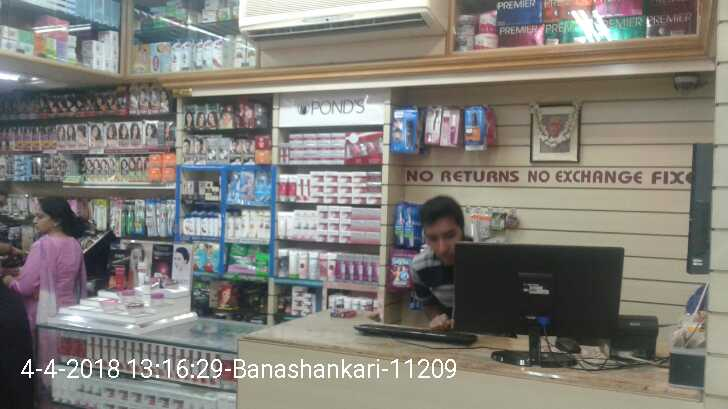venus: (240, 171, 254, 200), (256, 172, 269, 203), (227, 172, 240, 199)
